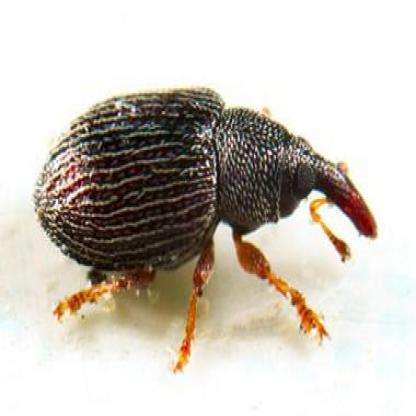rice-bug: (30, 84, 379, 324)
